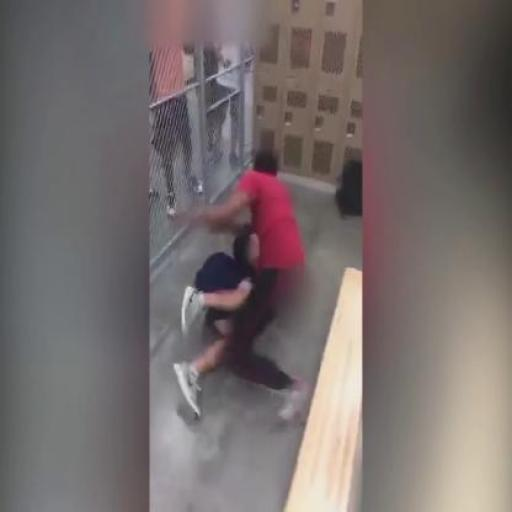Fighting: (170, 114, 306, 436)
